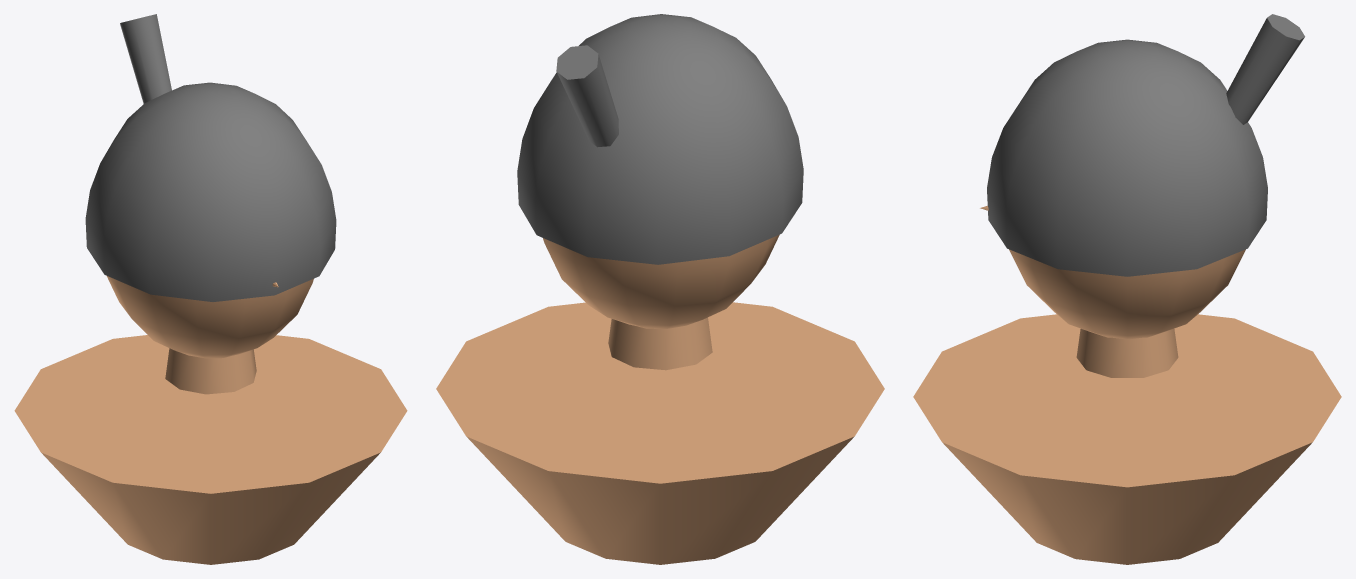
Rendered from raw_002.glb.
The picture shows the model from 3 angles, left to right: view 1: azimuth 30°, elevation 25°; view 2: azimuth 150°, elevation 25°; view 3: azimuth 270°, elevation 25°; orthographic projection. The views are drawn at different scales.
Size of the model in its own units: 1.77 by 2.29 by 1.77.
